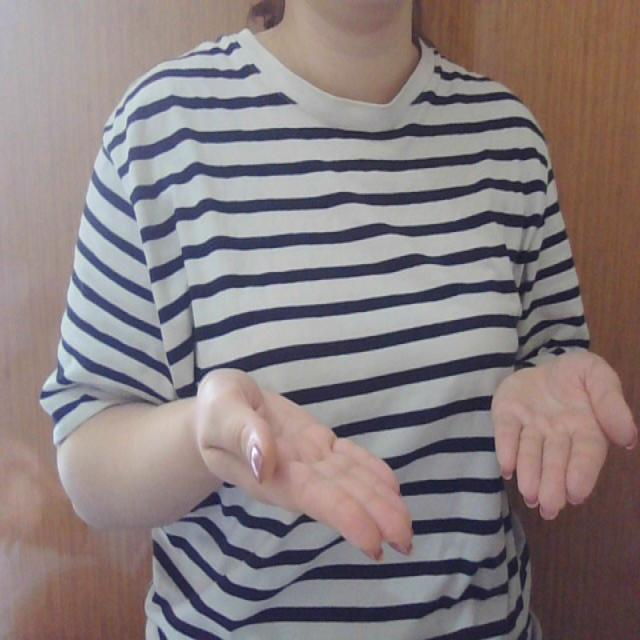Evet: (186, 344, 640, 576)
